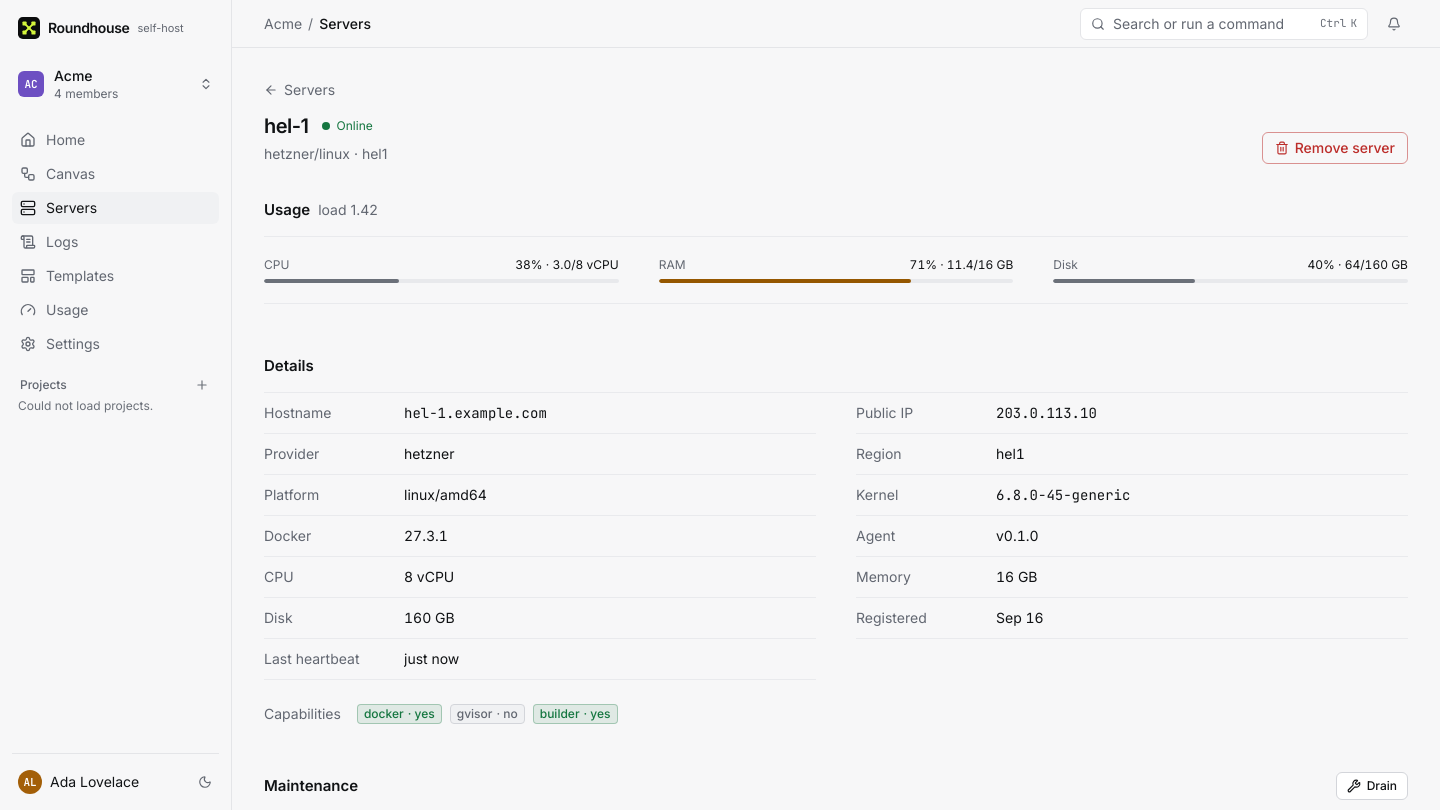
Test: node detail page › keeps the dialog open and shows the error when removal fails
Click the button "Remove server" at [1335, 148], box [1262,132,1408,164]
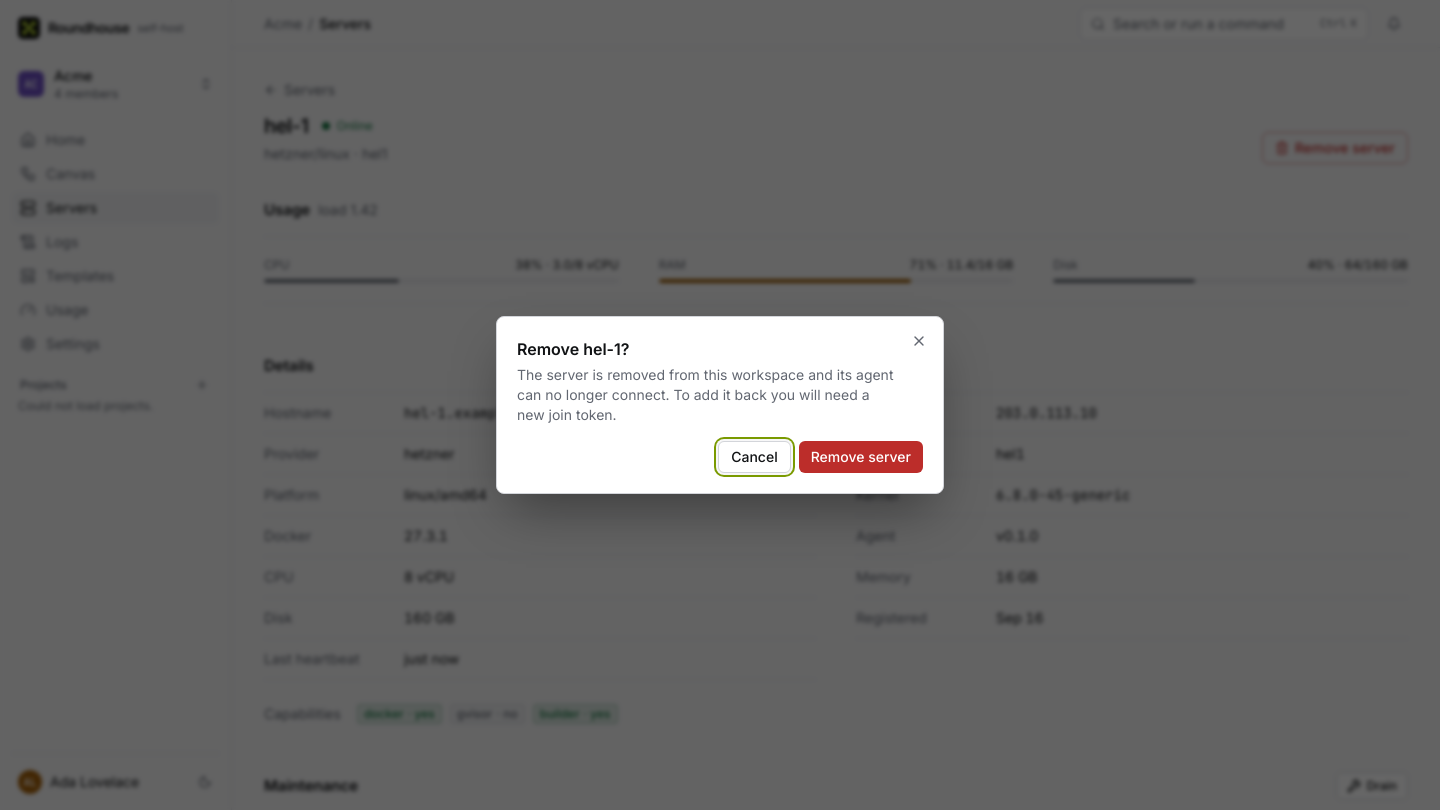
Click the button "Remove server" at [861, 457], box [799,441,923,473]
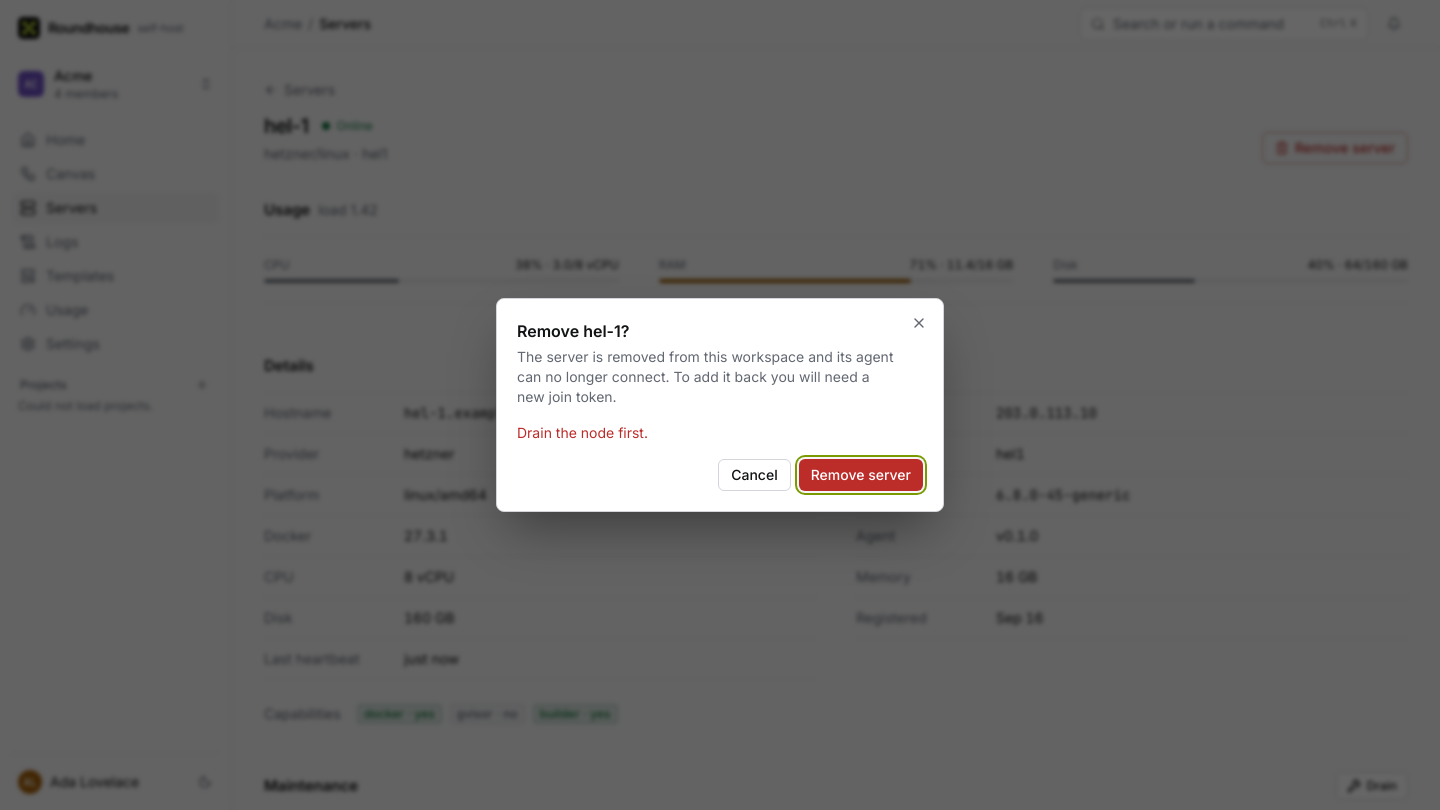
expect the message reads "Drain the node first.": met, box [517,424,648,441]
